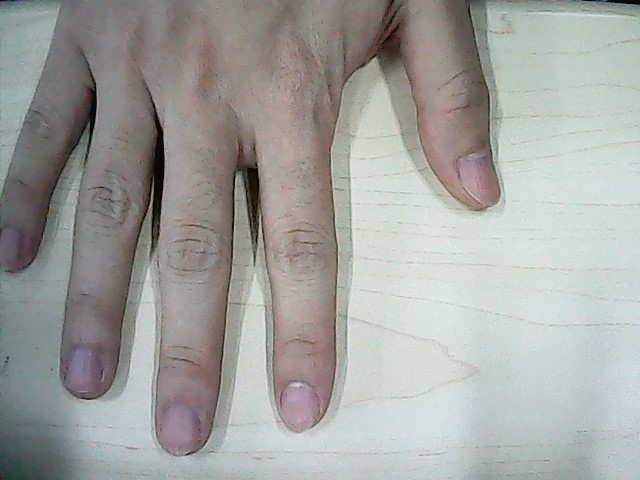nail: (455, 148, 503, 209), (157, 401, 201, 457), (279, 380, 322, 434), (62, 345, 104, 390), (1, 224, 24, 275)
